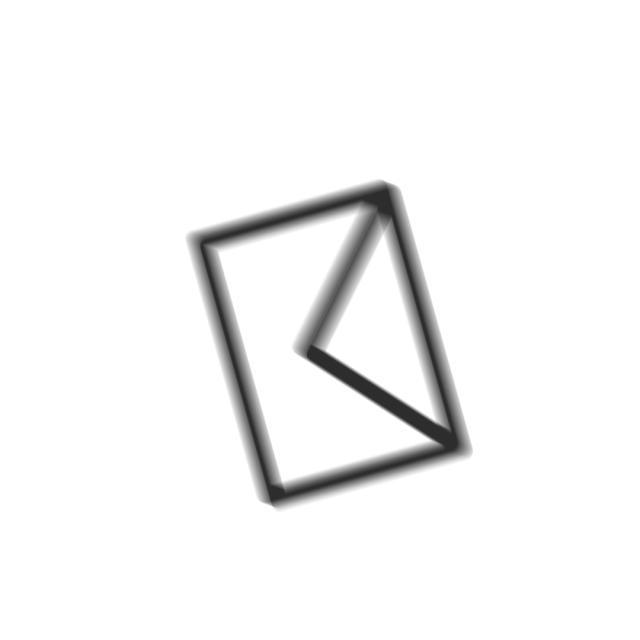letter: (179, 181, 479, 514)
